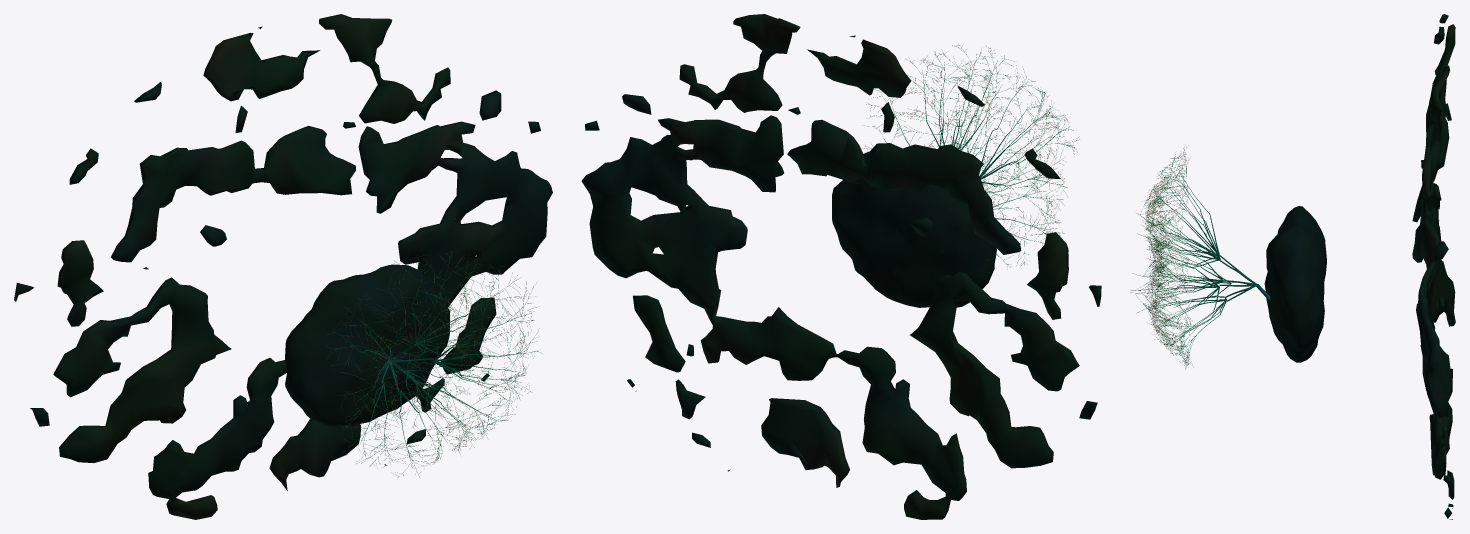
The model's file is canopy.glb.
The picture shows the model from 3 angles, left to right: view 1: azimuth 30°, elevation 25°; view 2: azimuth 150°, elevation 25°; view 3: azimuth 270°, elevation 25°; orthographic projection. The views are drawn at different scales.
Visible parts, largest first — view 1: far_canopy_outer, far_canopy_inner, wood_canopy_scaffold; view 2: far_canopy_outer, far_canopy_inner, wood_canopy_scaffold; view 3: far_canopy_outer, far_canopy_inner, wood_canopy_scaffold.
Part boxes in pixels (x1=…): far_canopy_outer: x1=14, y1=14, x2=552, y2=519; far_canopy_inner: x1=285, y1=264, x2=449, y2=426; wood_canopy_scaffold: x1=363, y1=308, x2=480, y2=412; far_canopy_outer: x1=581, y1=14, x2=1101, y2=519; far_canopy_inner: x1=832, y1=151, x2=996, y2=307; wood_canopy_scaffold: x1=898, y1=115, x2=1017, y2=298; far_canopy_outer: x1=1412, y1=14, x2=1455, y2=519; far_canopy_inner: x1=1264, y1=206, x2=1326, y2=362; wood_canopy_scaffold: x1=1167, y1=209, x2=1270, y2=318.
Bounding box in the file's own units: 7.52 × 6.44 × 4.39.
